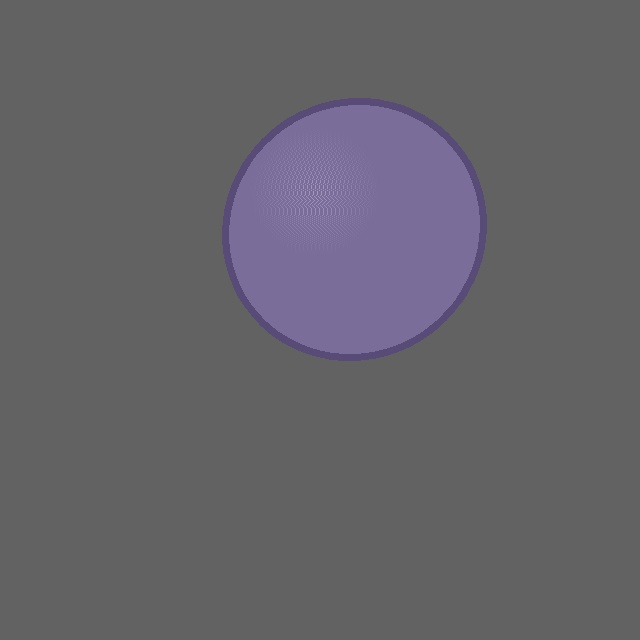lens: (226, 101, 482, 357)
